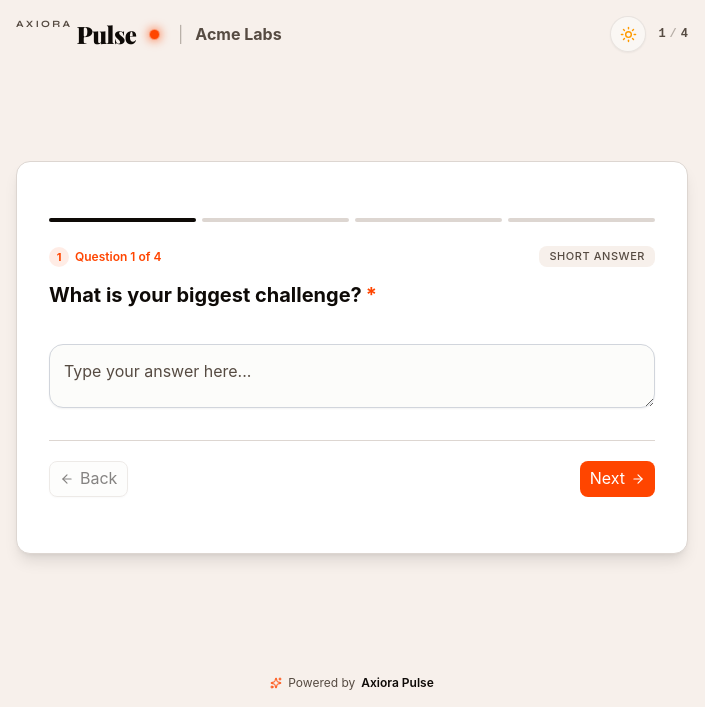
Scenario: PublicSurveyPage › navigates through questions with Next and Back buttons
The image size is (705, 707).
Check: the heading "What is your biggest challenge?*" is shown, box [49,283,377,307]
Type "Churn" into the text box with placeholder "Type your answer here..." at (352, 376), box [49,344,655,408]
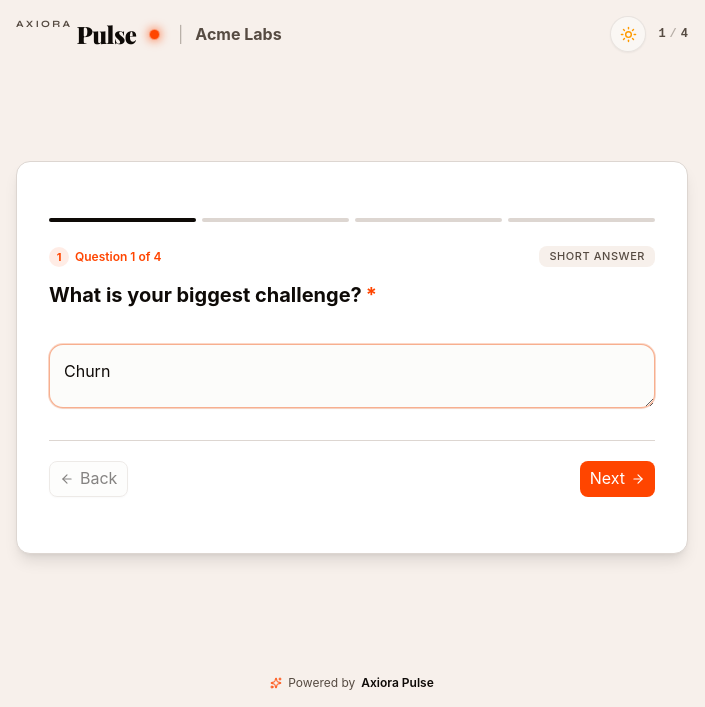
Click the button "Next" at (617, 479), box [580,461,655,497]
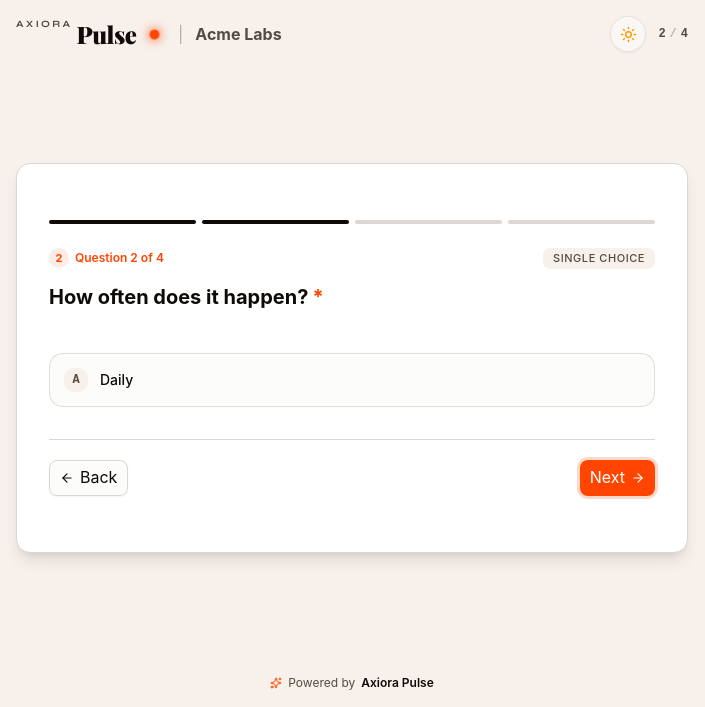
Check: the heading "How often does it happen?*" is shown, box [49,285,324,309]
Check: the text "Daily" is shown
Click the text "Daily" at (117, 379), box [100,371,133,388]
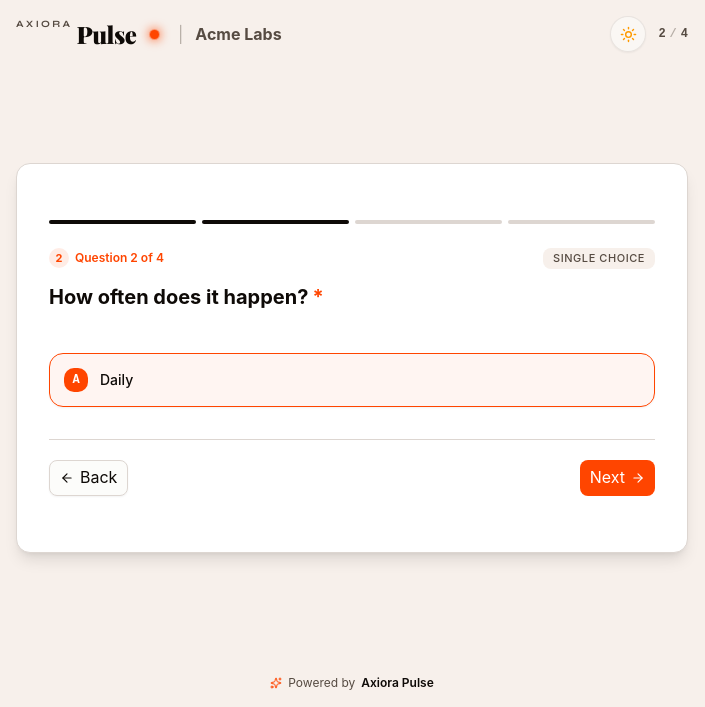
Note: Test Back button
Click the button "Back" at (89, 478), box [49,460,128,496]
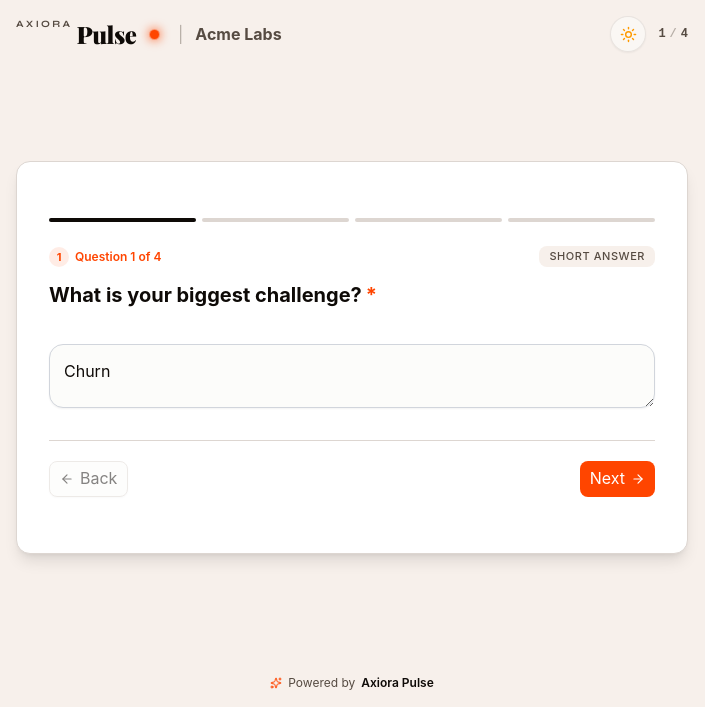
Check: the heading "What is your biggest challenge?*" is shown, box [49,283,377,307]
Check: the text box with placeholder "Type your answer here..." holds "Churn", box [49,344,655,408]
Note: Go forward again
Click the button "Next" at (617, 479), box [580,461,655,497]
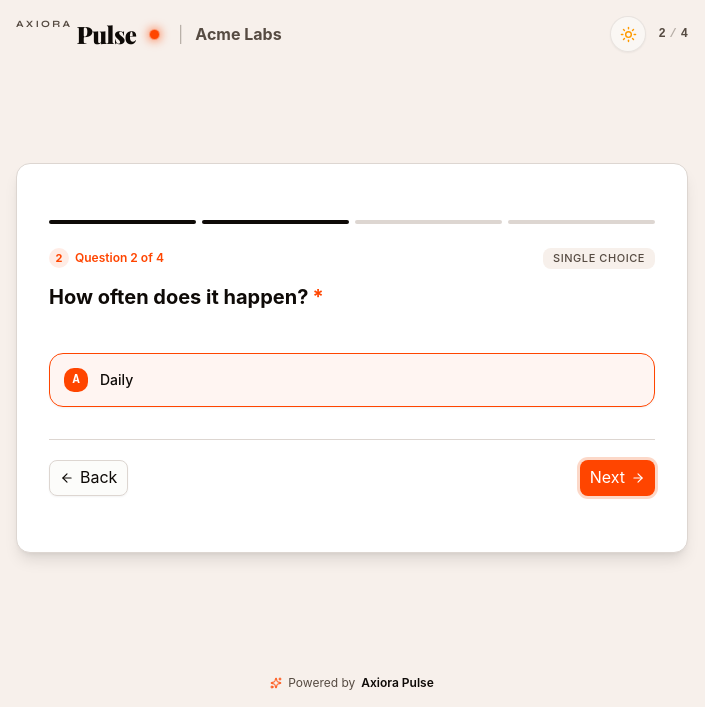
Check: the heading "How often does it happen?*" is shown, box [49,285,324,309]
